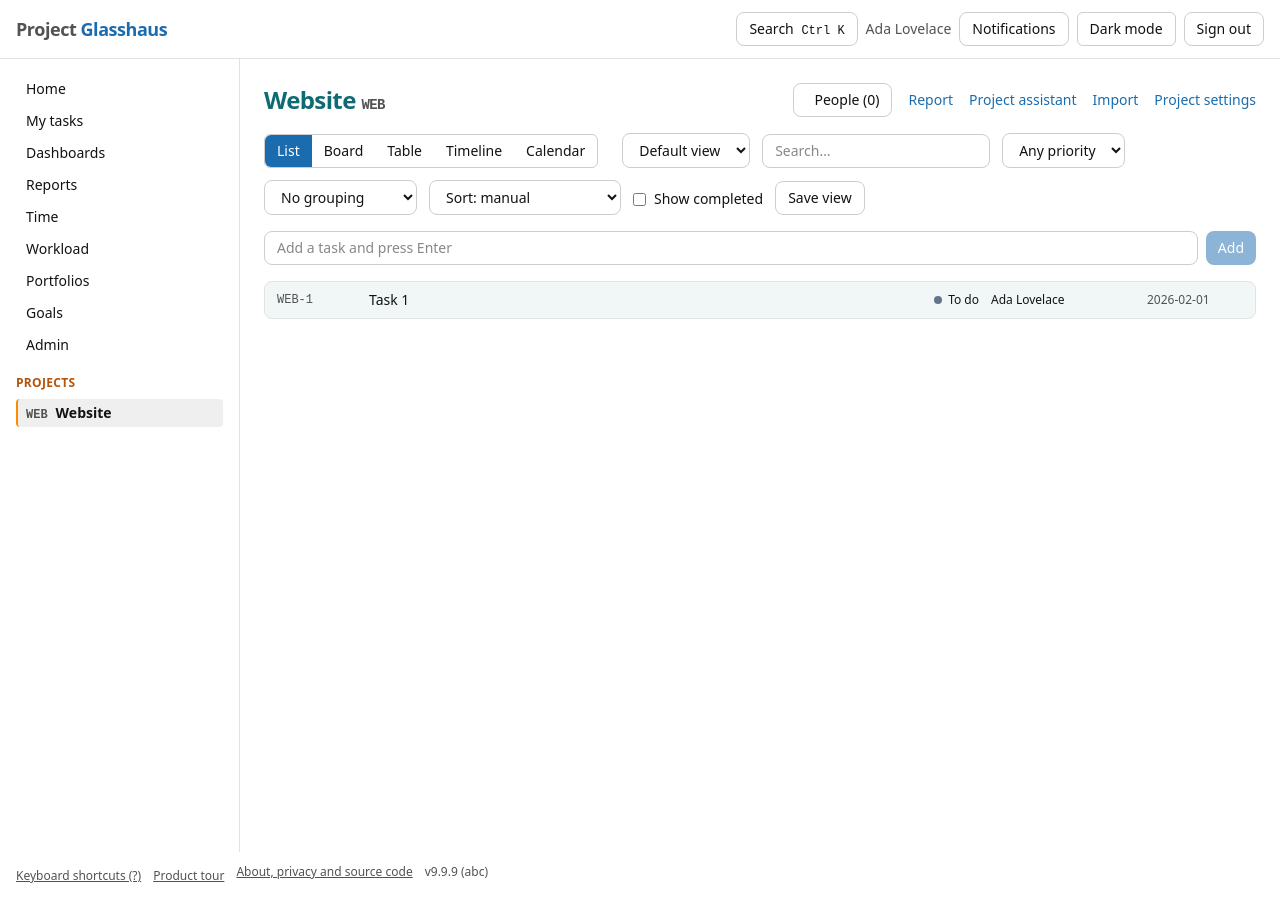
Test: project page › closing a task opened from the list goes back instead of adding a history entry
The width and height of the screenshot is (1280, 900).
Click the button "WEB-1 Task 1 To do Ada Lovelace 2026-02-01".
click(295, 300)  # box x1=265 y1=282 x2=1255 y2=318
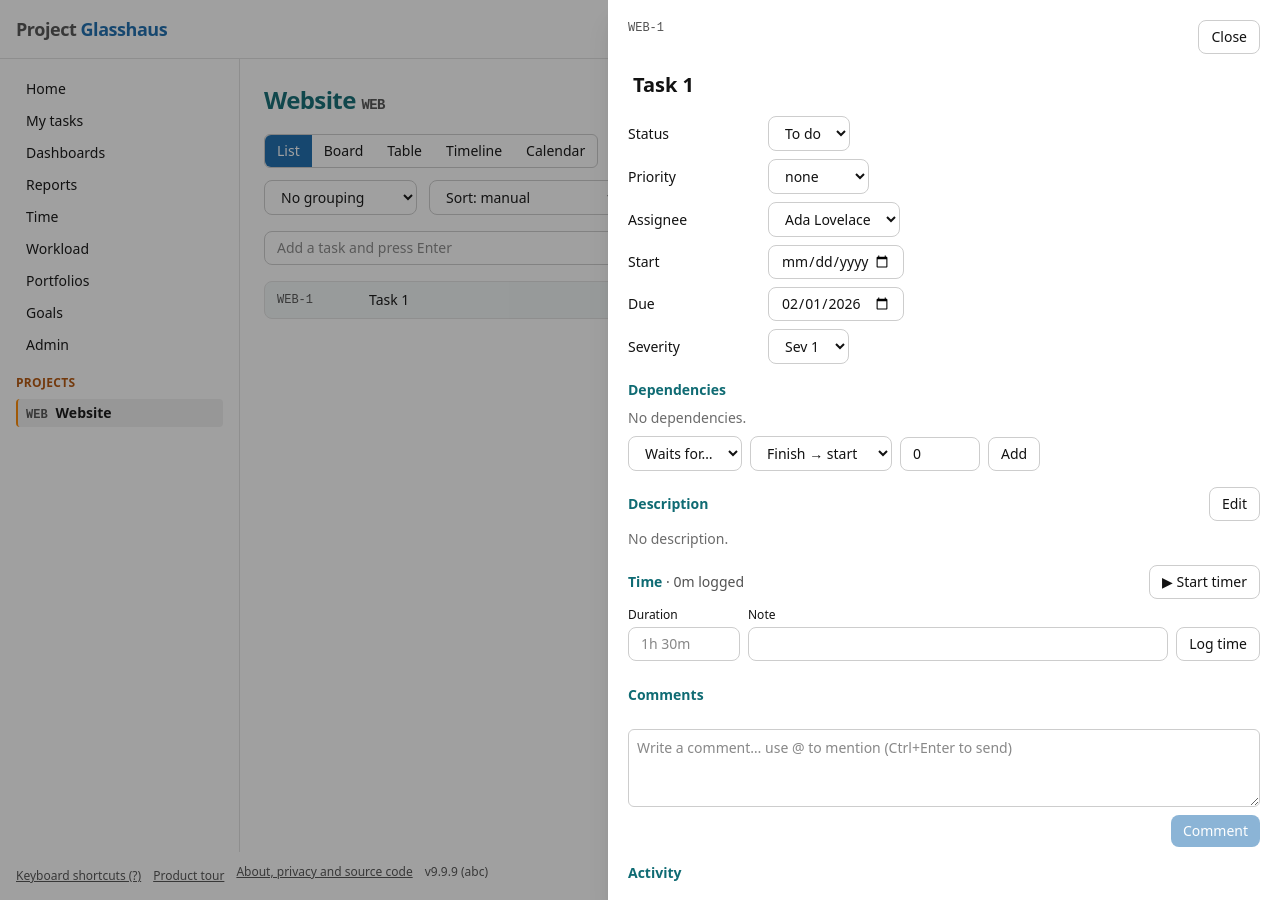
Expected: the dialog is shown, x1=608 y1=0 x2=1279 y2=899
Click the button with aria-label "Close task".
click(1229, 37)  # box x1=1198 y1=20 x2=1260 y2=54
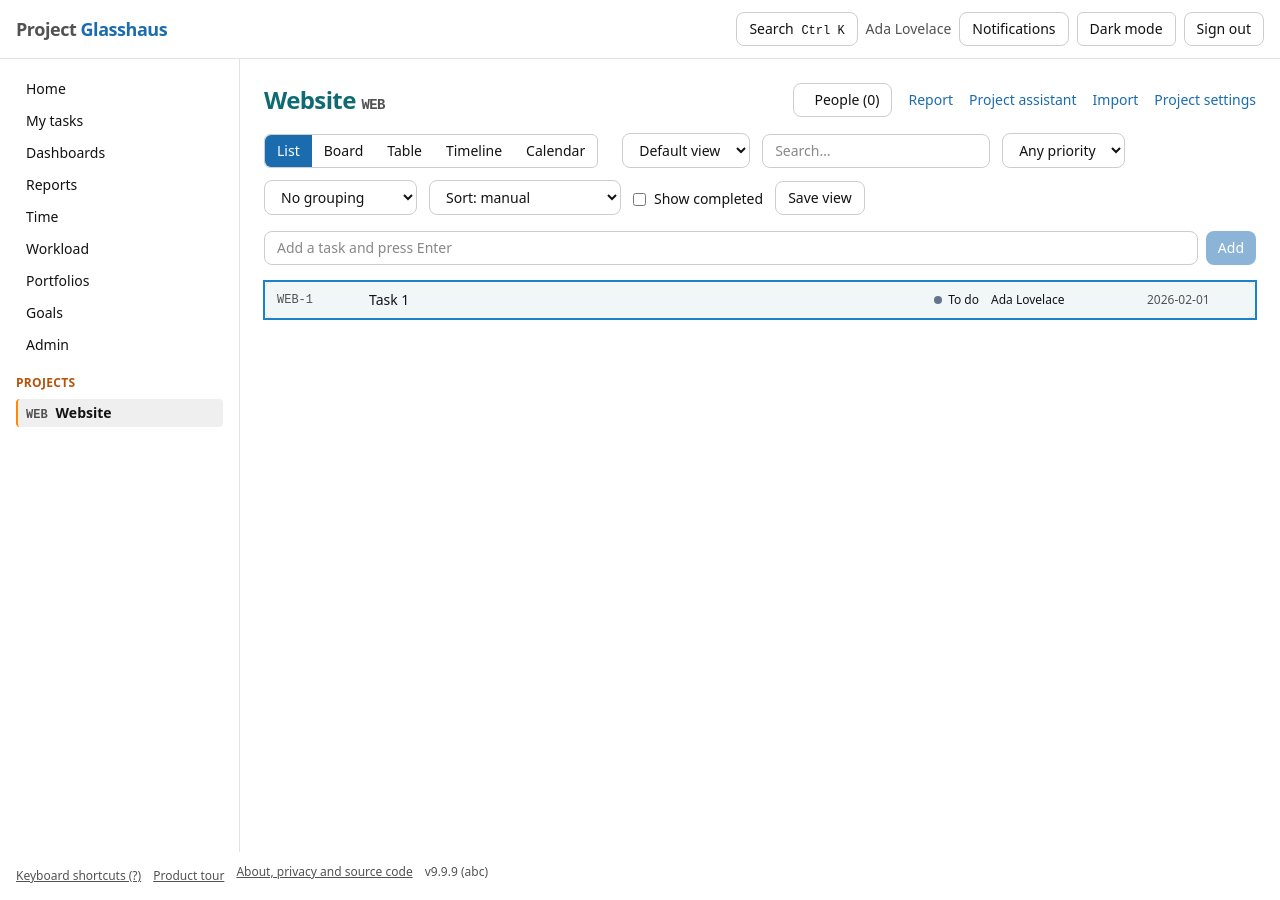
Expected: the dialog is gone
